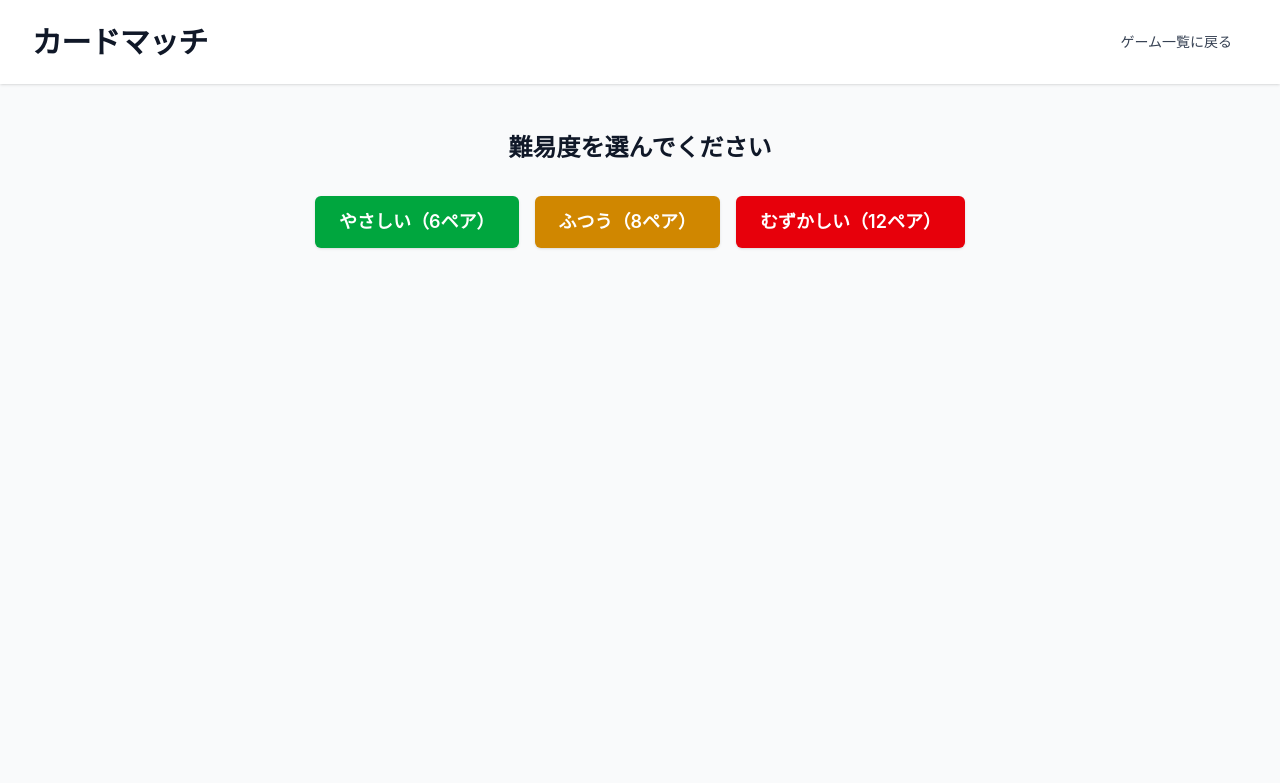
Test: CardMatchGame › should start game with normal difficulty
Click the button "ふつう（8ペア）". click: (627, 222)
box: [535, 196, 720, 248]
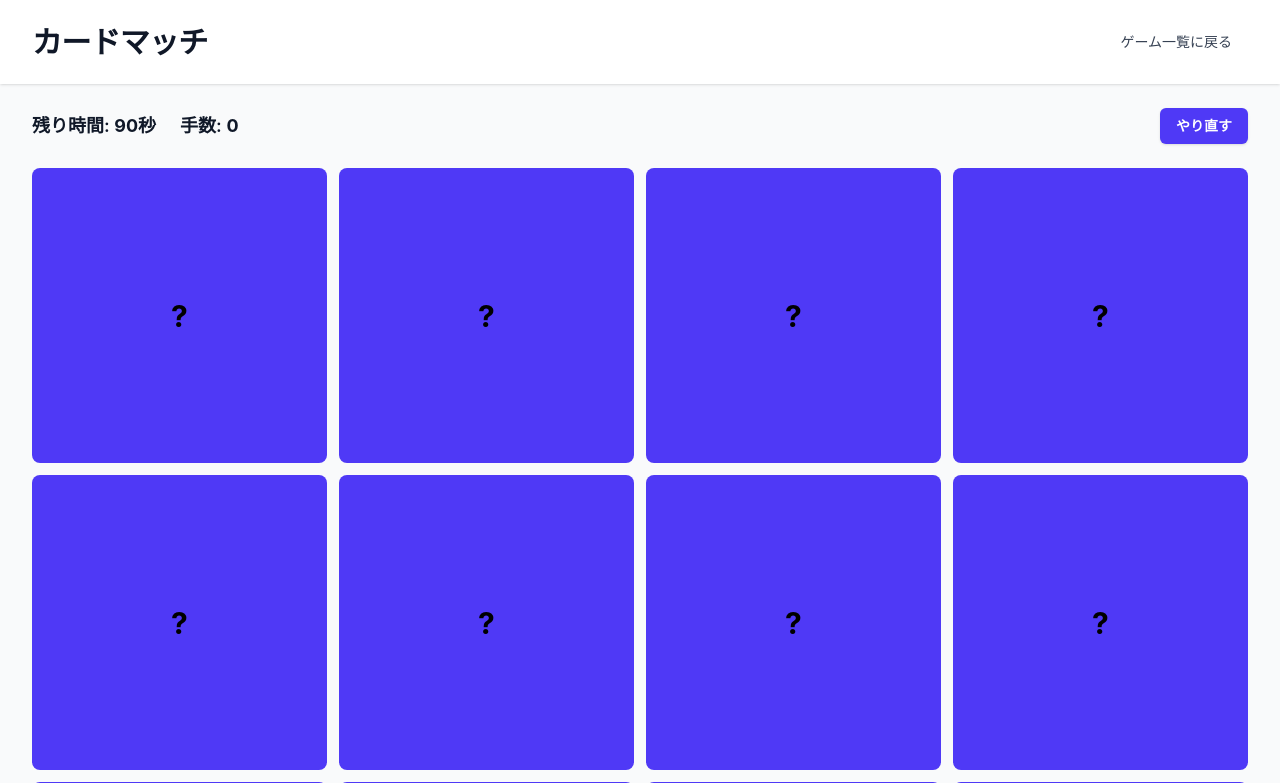
Expected: the text "残り時間:" is shown, [32, 115, 114, 136]
Expected: the number of buttons "?" is 16
